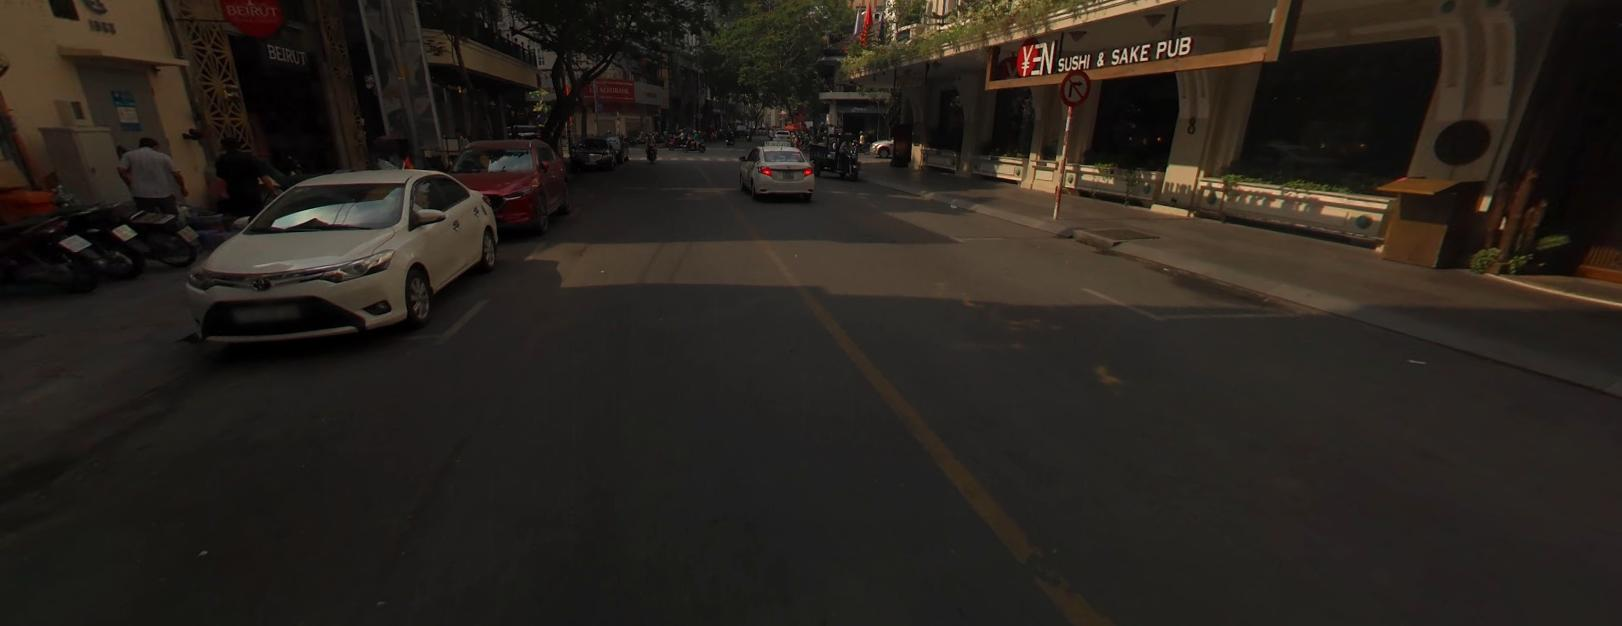Cam re: (1060, 70, 1090, 106)
